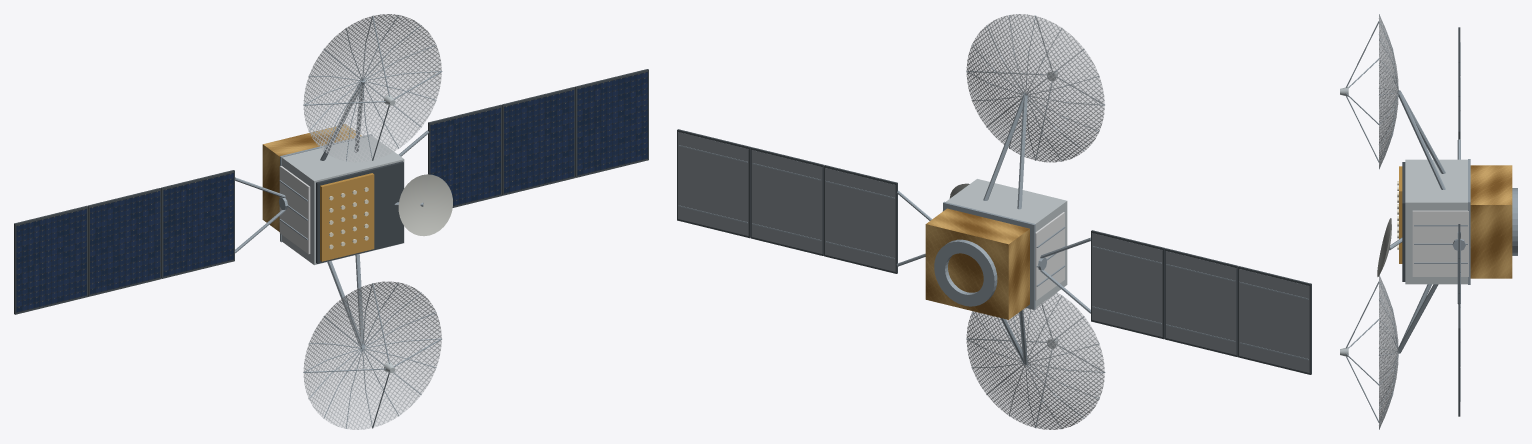
Rendered from tdrs-3.glb.
The picture shows the model from 3 angles, left to right: view 1: azimuth 30°, elevation 25°; view 2: azimuth 150°, elevation 25°; view 3: azimuth 270°, elevation 25°; orthographic projection. The views are drawn at different scales.
Visible parts, largest first — view 1: Solar cell panel (×6), Single-access reflector (×2), Solar panel frame (×6), Multiple-access antenna deck, Payload module, Earth-facing deck, Space-to-ground antenna, Service module, Radiator face; view 2: Rear array substrate (×6), Single-access reflector (×2), Service module, Solar panel frame (×6), Payload module, Launch adapter ring, Radiator face, Module interface; view 3: Service module, Single-access reflector (×2), Payload module, Radiator face, Gimbaled antenna arm (×4), Earth-facing deck, Launch adapter ring, Space-to-ground antenna, Multiple-access antenna deck, Solar panel frame, Module interface.
Boxes of the visible parts, bbox=[...] form: Solar cell panel (×6): bbox=[16, 72, 647, 312]; Single-access reflector (×2): bbox=[303, 14, 441, 429]; Solar panel frame (×6): bbox=[14, 69, 648, 314]; Multiple-access antenna deck: bbox=[320, 173, 374, 261]; Payload module: bbox=[282, 135, 404, 264]; Earth-facing deck: bbox=[316, 161, 403, 263]; Space-to-ground antenna: bbox=[398, 174, 452, 236]; Service module: bbox=[262, 124, 361, 231]; Radiator face: bbox=[279, 166, 310, 254]; Rear array substrate (×6): bbox=[678, 132, 1309, 372]; Single-access reflector (×2): bbox=[966, 14, 1104, 429]; Service module: bbox=[925, 208, 1029, 319]; Solar panel frame (×6): bbox=[677, 129, 1311, 374]; Payload module: bbox=[946, 179, 1067, 307]; Launch adapter ring: bbox=[934, 239, 997, 306]; Radiator face: bbox=[1035, 212, 1064, 300]; Module interface: bbox=[943, 201, 1035, 309]; Service module: bbox=[1470, 165, 1512, 278]; Single-access reflector (×2): bbox=[1379, 14, 1398, 429]; Payload module: bbox=[1405, 159, 1467, 284]; Radiator face: bbox=[1412, 210, 1468, 276]; Gimbaled antenna arm (×4): bbox=[1397, 90, 1445, 353]; Earth-facing deck: bbox=[1402, 162, 1405, 281]; Launch adapter ring: bbox=[1512, 188, 1517, 255]; Space-to-ground antenna: bbox=[1377, 218, 1391, 276]; Multiple-access antenna deck: bbox=[1399, 166, 1402, 263]; Solar panel frame: bbox=[1458, 294, 1460, 416]; Module interface: bbox=[1468, 159, 1470, 284].
Size of the model in its own units: 21.08 by 13.11 by 5.26.
Materials: 11 (3 with a texture image).
